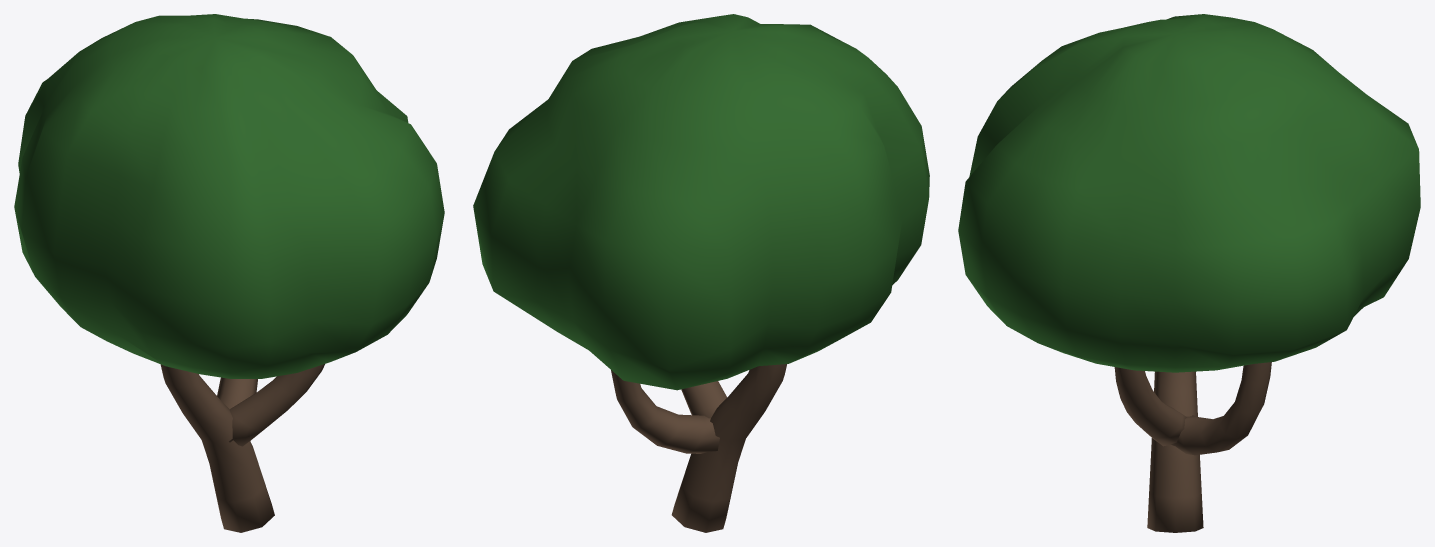
File: shrub-1-1.fbx
3 views of the same model, side by side, from view 1: azimuth 30°, elevation 25°; view 2: azimuth 150°, elevation 25°; view 3: azimuth 270°, elevation 25° (orthographic). The views are drawn at different scales.
Visible parts, largest first — view 1: Trunk.001; view 2: Trunk.001; view 3: Trunk.001.
Part boxes in pixels (x1,y1,x2,y2): Trunk.001: (14,14,444,532); Trunk.001: (473,14,929,532); Trunk.001: (958,14,1420,532).
Bounding box in the file's own units: 75.68 × 95.23 × 82.28.
